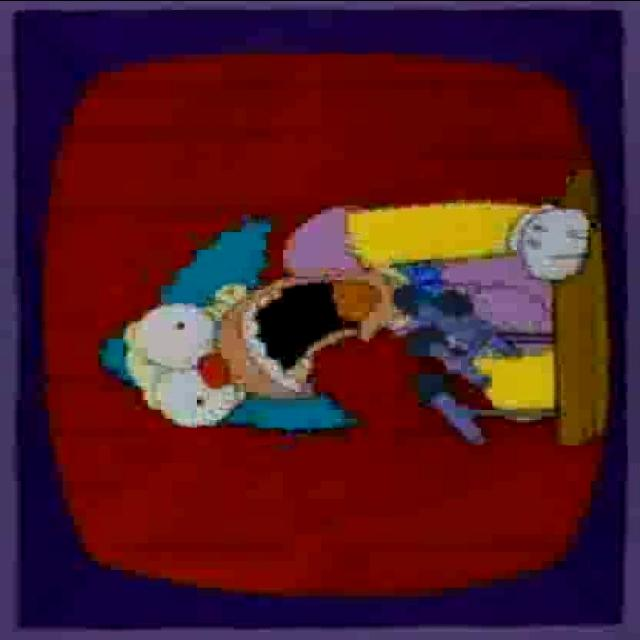Krusty the Clown: (99, 208, 399, 432)
